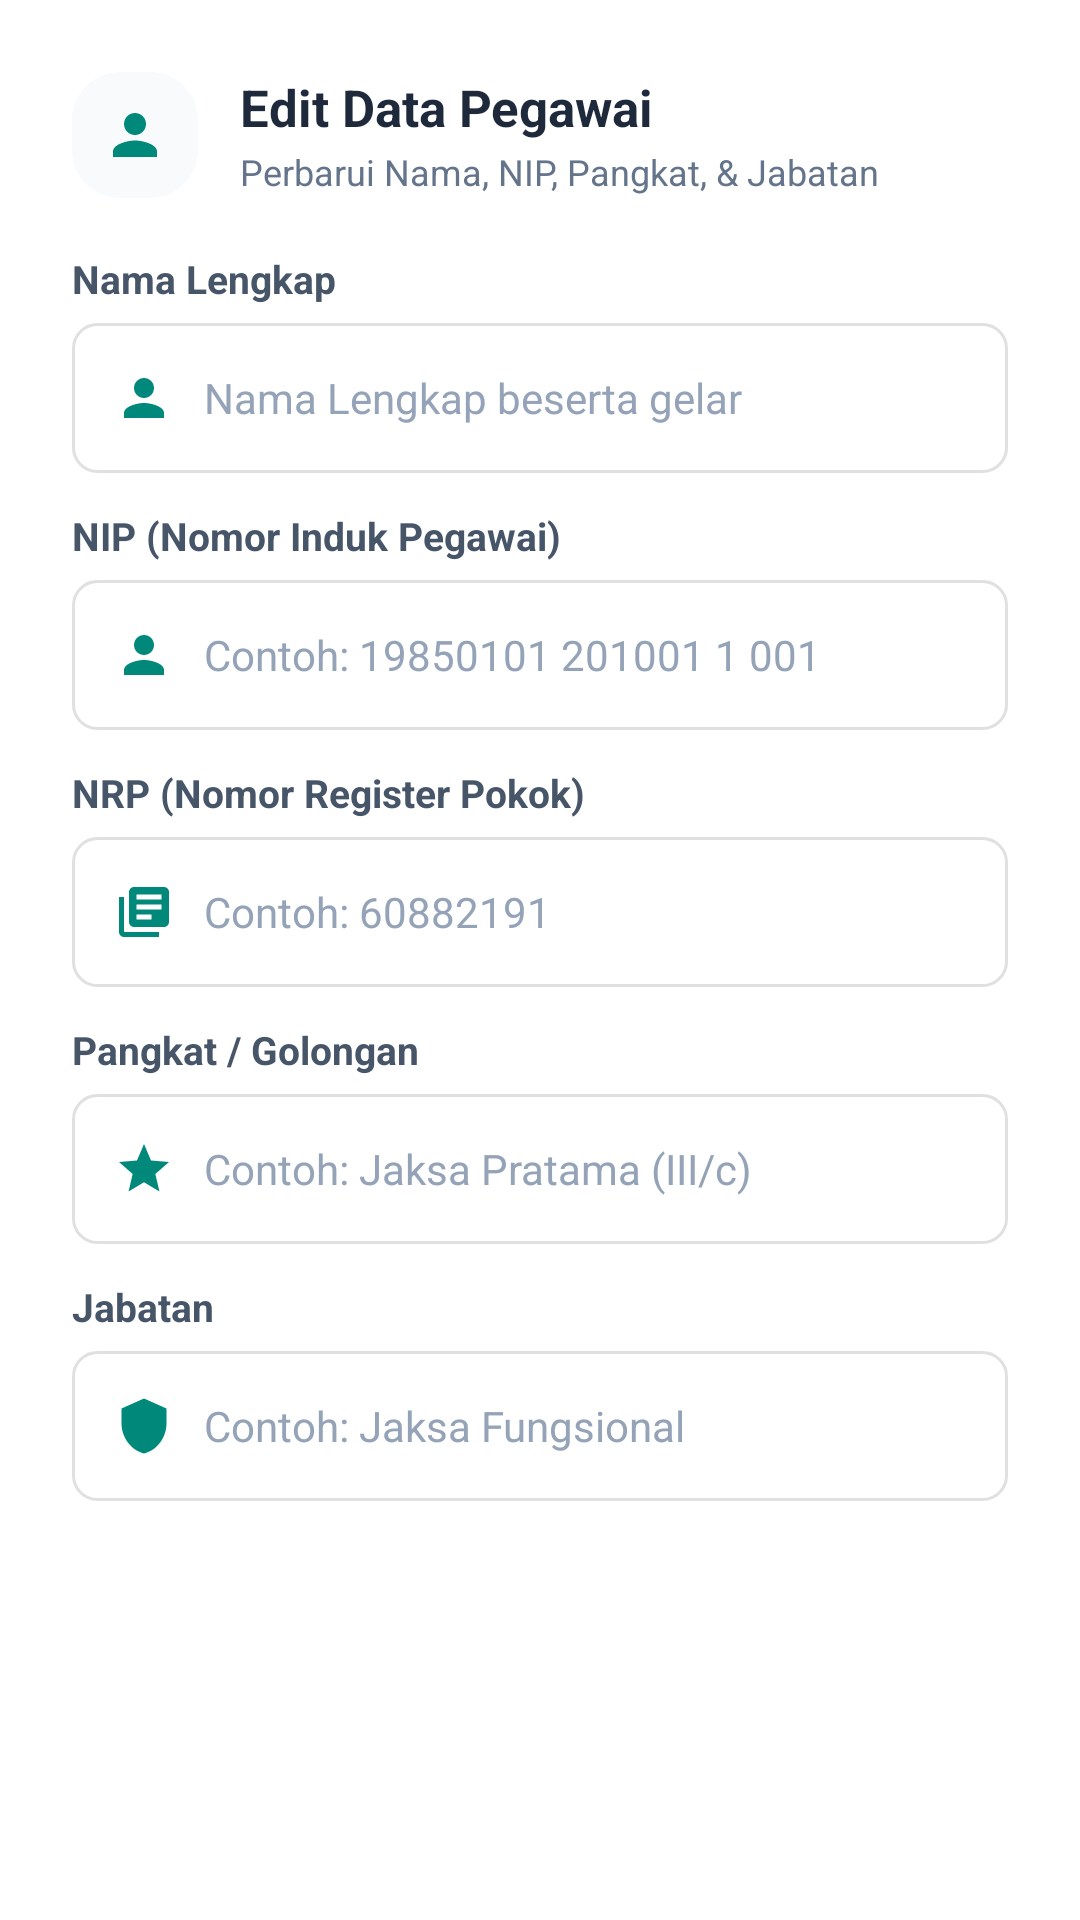

Point at icon controls on the screen. Image size 1080x1920, points as point (x, y).
Edit Profil: point (135, 135)
